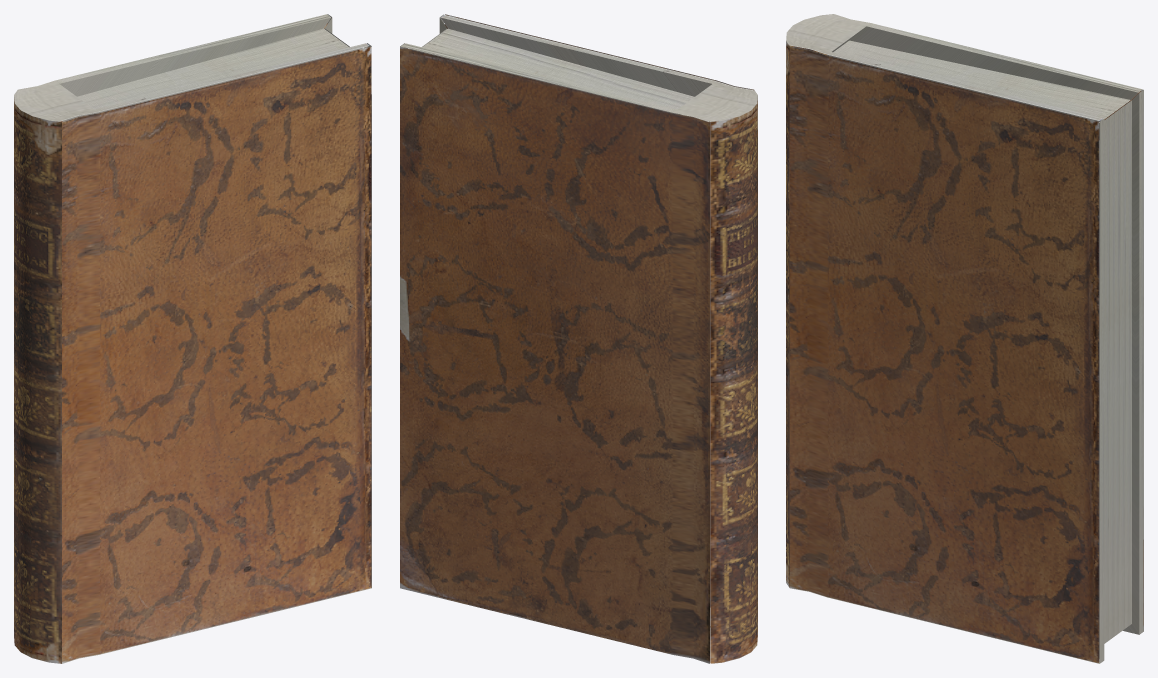
The model's file is Book 2.fbx.
3 views of the same model, side by side, from view 1: azimuth 30°, elevation 25°; view 2: azimuth 150°, elevation 25°; view 3: azimuth 330°, elevation 25° (orthographic).
Parts seen in each view (by area): view 1: pCube1; view 2: pCube1; view 3: pCube1.
Boxes of the visible parts, box(x1,y1,x2,y2) form: pCube1: box(14, 14, 371, 663); pCube1: box(400, 14, 757, 663); pCube1: box(786, 14, 1143, 663).
Bounding box in the file's own units: 4.55 × 7.16 × 1.06.
Materials: 1 (1 with a texture image).
